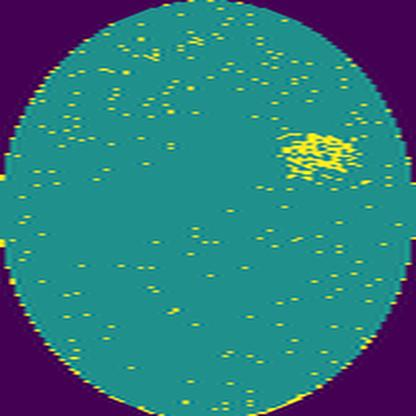Loc: (276, 128, 365, 183)
